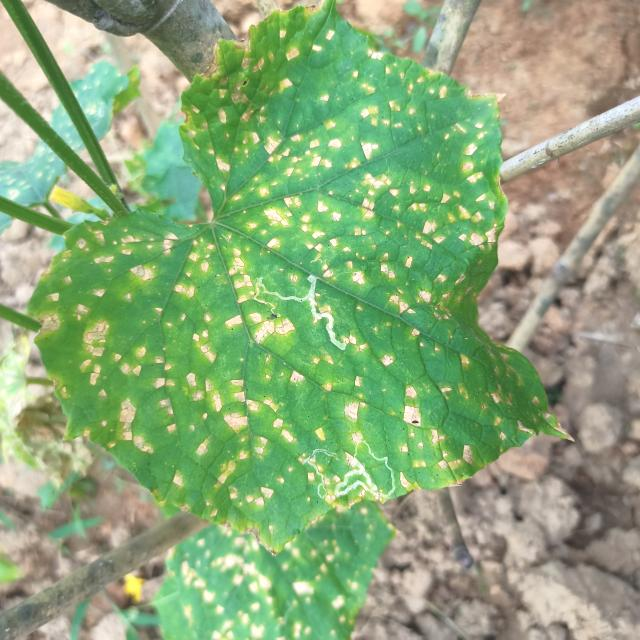disease_cucumber: (43, 34, 523, 506)
